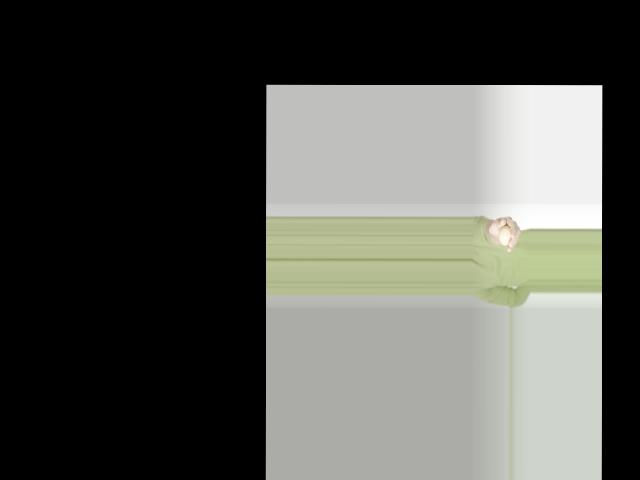egg: (499, 225, 511, 246)
